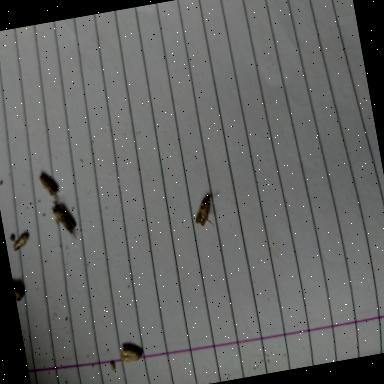pbw: (50, 200, 79, 242), (37, 166, 61, 202), (192, 197, 216, 230), (119, 346, 144, 364), (11, 232, 30, 252)
